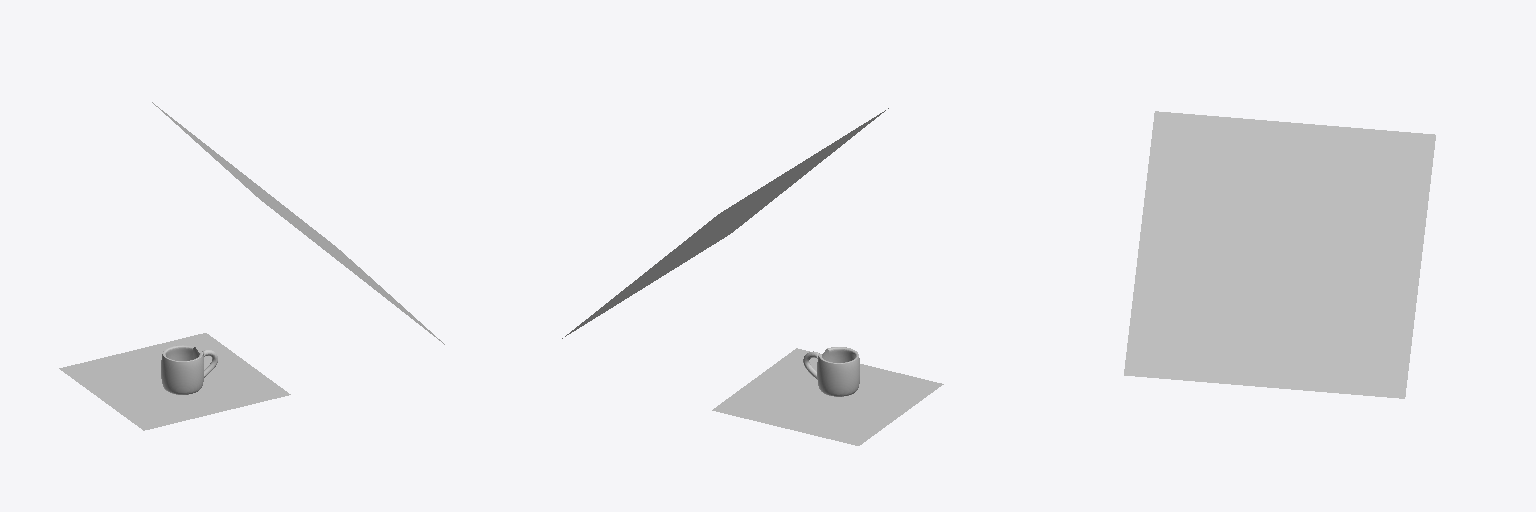
Rendered from cup.obj.
3 views of the same model, side by side, from view 1: azimuth 30°, elevation 25°; view 2: azimuth 150°, elevation 25°; view 3: azimuth 270°, elevation 25° (orthographic).
Visible parts, largest first — view 1: Plane, Plane.001, NurbsPath_Mesh; view 2: Plane, Plane.001, NurbsPath_Mesh; view 3: Plane.001.
Part boxes in pixels (x1,y1,x2,y2): Plane: (59, 333, 290, 430); Plane.001: (152, 102, 444, 344); NurbsPath_Mesh: (161, 345, 217, 394); Plane: (712, 348, 943, 445); Plane.001: (562, 108, 888, 338); NurbsPath_Mesh: (803, 347, 859, 396); Plane.001: (1124, 111, 1435, 398).
Bounding box in the file's own units: 11.73 × 9.05 × 11.02.